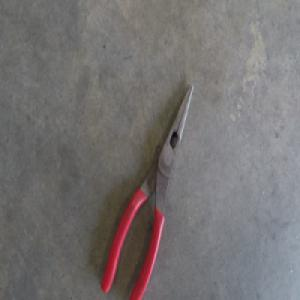Pliers: (101, 85, 193, 298)
